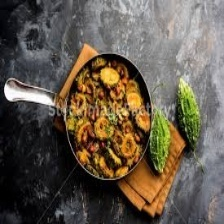sabzi: (64, 58, 150, 180)
